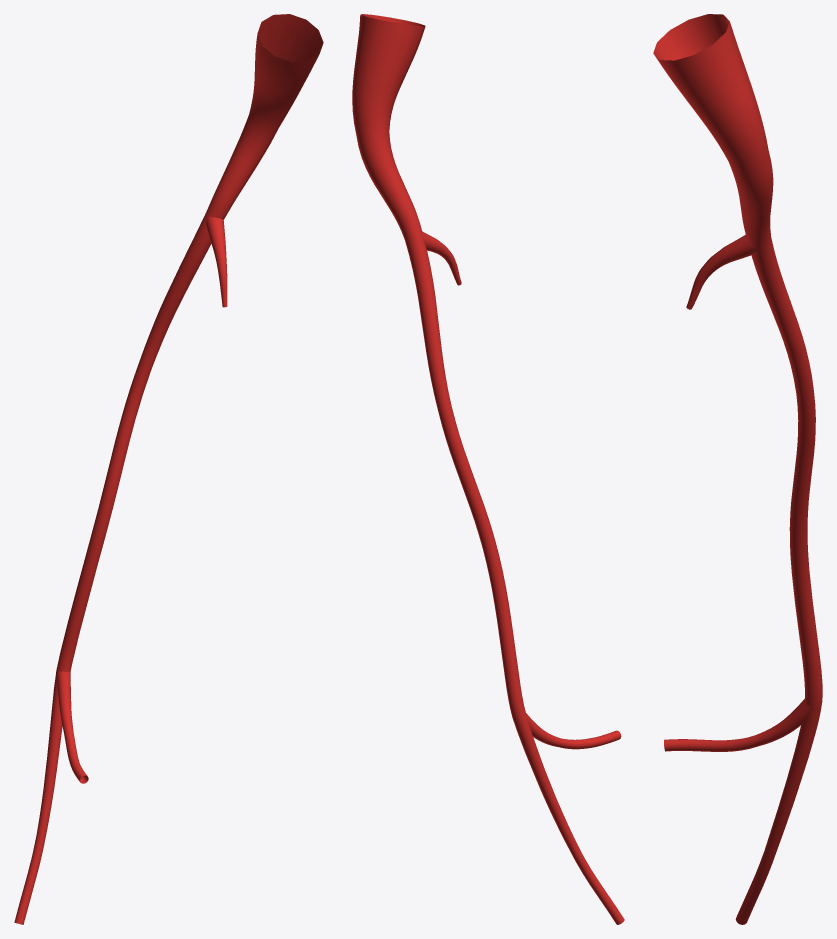
File: circulatorio-mylohyoid-branch-of-inferior-alveolar-artery-l.glb
3 views of the same model, side by side, from view 1: azimuth 30°, elevation 25°; view 2: azimuth 150°, elevation 25°; view 3: azimuth 270°, elevation 25° (orthographic). The views are drawn at different scales.
Visible parts, largest first — view 1: Mylohyoid branch of inferior alveolar artery.l; view 2: Mylohyoid branch of inferior alveolar artery.l; view 3: Mylohyoid branch of inferior alveolar artery.l.
Part boxes in pixels (x1=…): Mylohyoid branch of inferior alveolar artery.l: x1=14, y1=14, x2=323, y2=924; Mylohyoid branch of inferior alveolar artery.l: x1=352, y1=14, x2=624, y2=924; Mylohyoid branch of inferior alveolar artery.l: x1=653, y1=14, x2=822, y2=924.
Bounding box in the file's own units: 0.00678 × 0.0194 × 0.00284.
